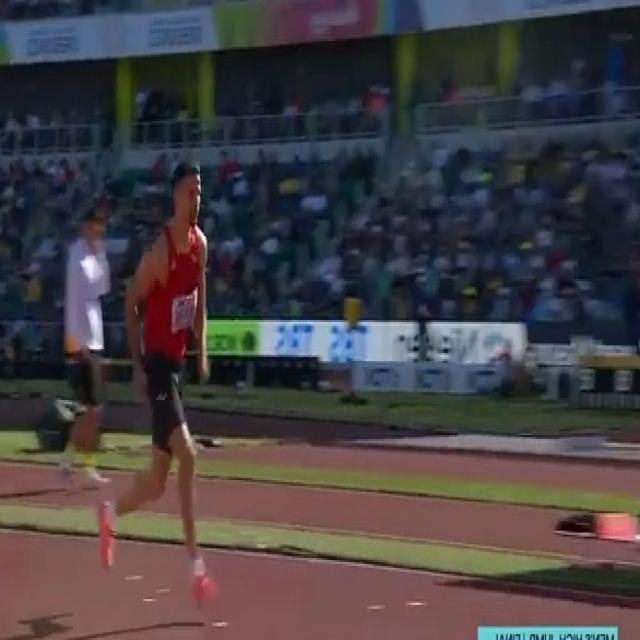run: (96, 162, 219, 610)
